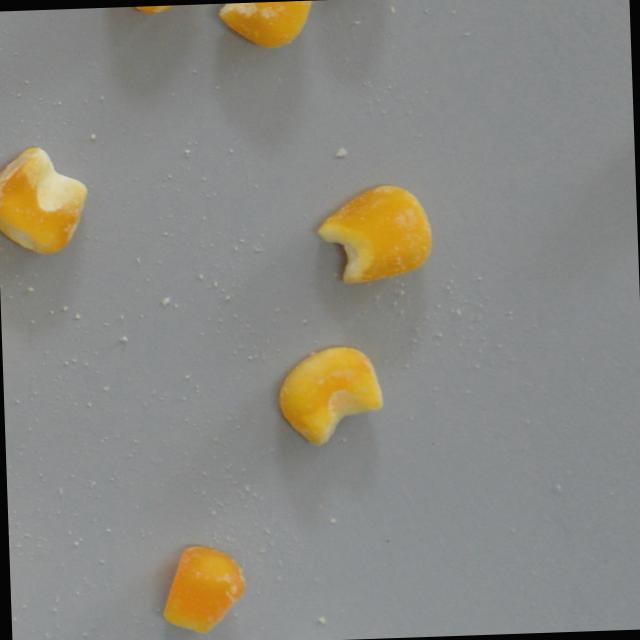pelicula: (315, 183, 433, 286), (276, 344, 385, 449), (0, 145, 90, 256), (159, 542, 250, 640), (216, 0, 318, 52)
